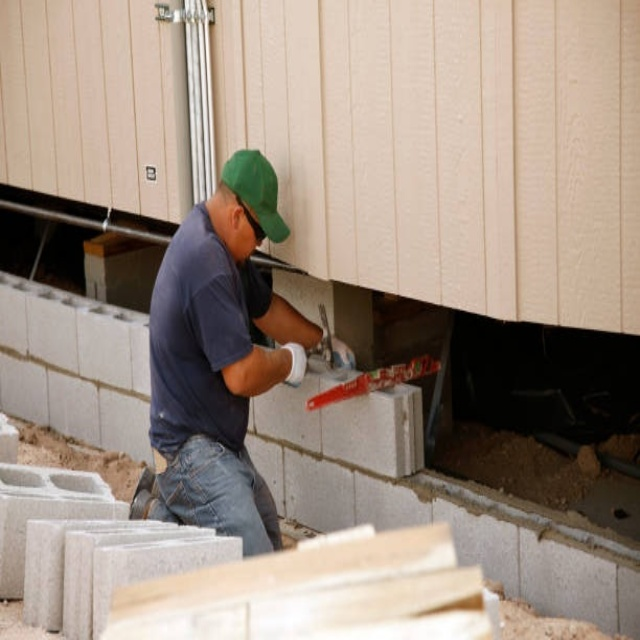Gafas: (236, 191, 266, 244)
Guantes: (276, 341, 307, 387), (329, 336, 356, 371)
